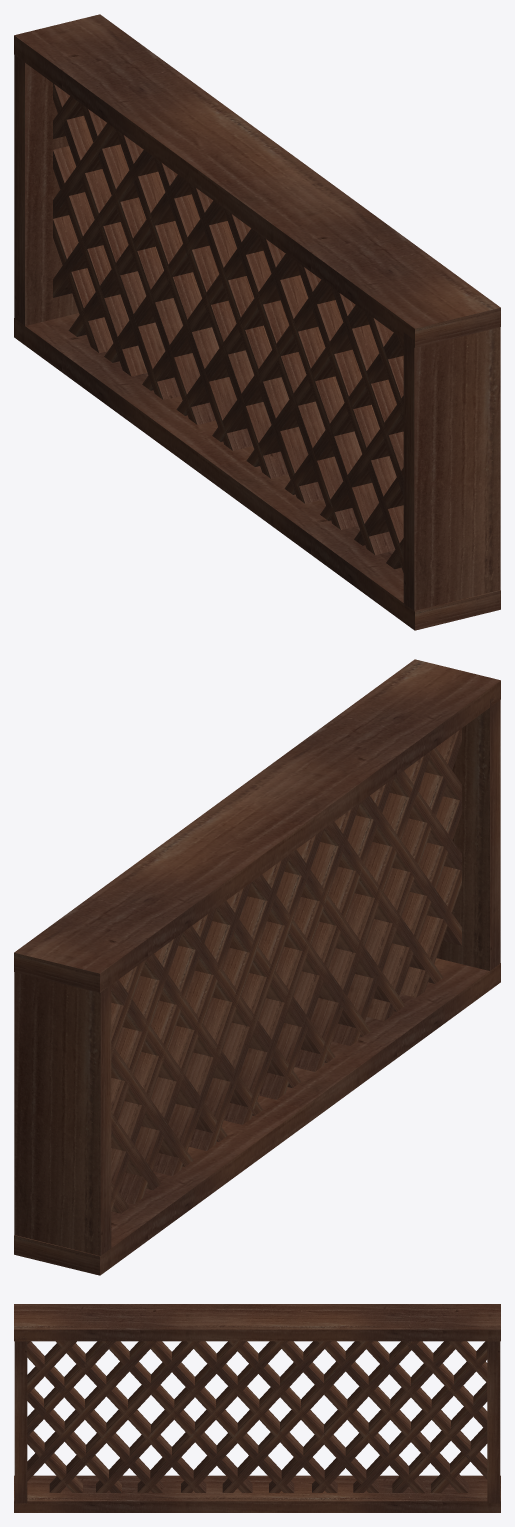
The model's file is SM_LatticeSingle.fbx.
3 views of the same model, one above another, from view 1: azimuth 30°, elevation 25°; view 2: azimuth 150°, elevation 25°; view 3: azimuth 270°, elevation 25° (orthographic). The views are drawn at different scales.
Parts seen in each view (by area): view 1: SM_LatticeSingle; view 2: SM_LatticeSingle; view 3: SM_LatticeSingle.
Boxes of the visible parts, x1,y1,x2,y2 form: SM_LatticeSingle: (14, 14, 500, 630); SM_LatticeSingle: (14, 659, 500, 1275); SM_LatticeSingle: (14, 1304, 500, 1512).
Size of the model in its own units: 21.92 by 177 by 73.43.
Materials: 1 (1 with a texture image).
